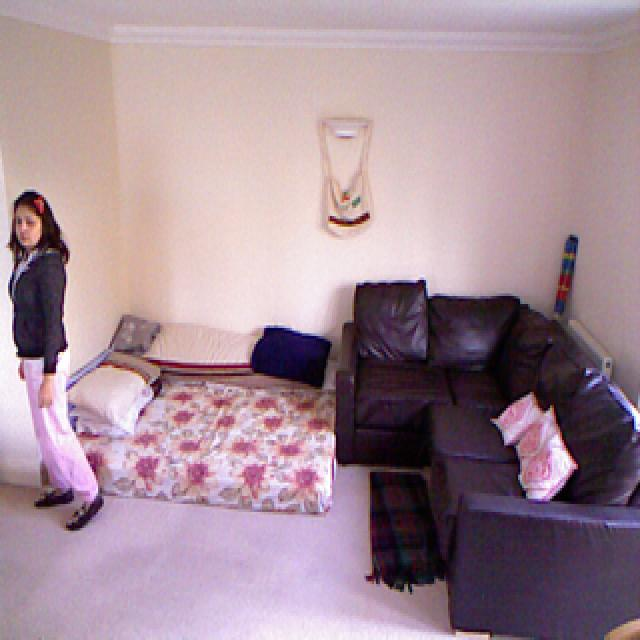standing: (10, 191, 104, 534)
